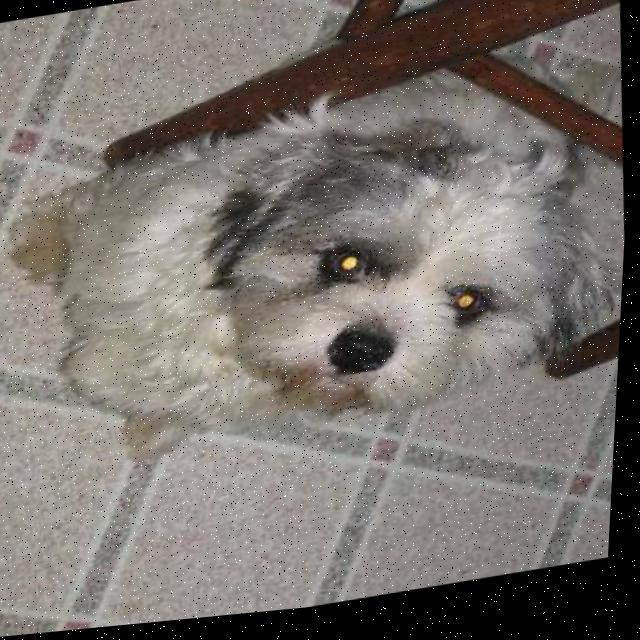dogs: (0, 83, 626, 497)
